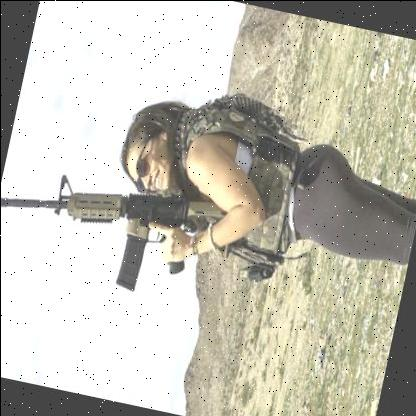rifle: (0, 154, 244, 308)
